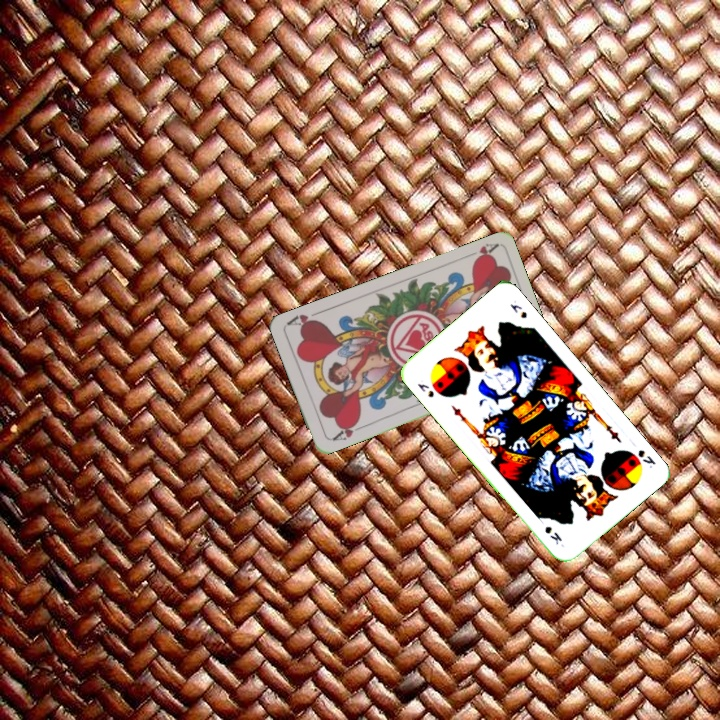HA: (327, 417, 366, 443), (460, 239, 499, 265)
SK: (634, 445, 659, 471), (413, 379, 437, 400)
